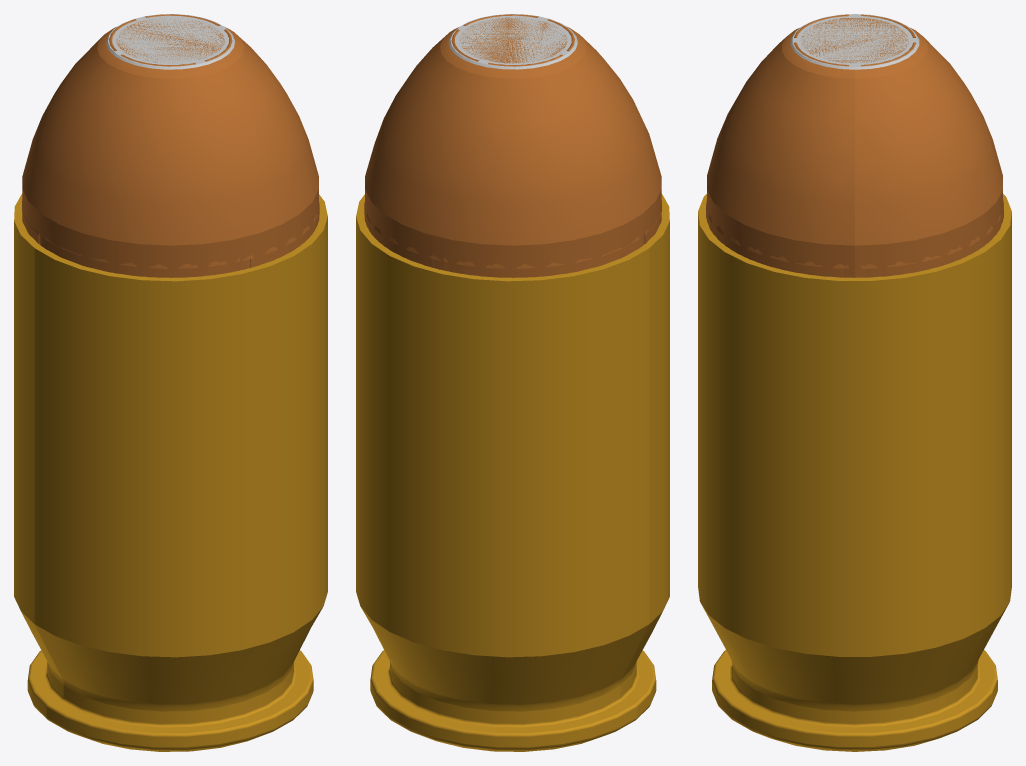
3 views of the same model, side by side, from view 1: azimuth 30°, elevation 25°; view 2: azimuth 150°, elevation 25°; view 3: azimuth 270°, elevation 25° (orthographic).
Visible parts, largest first — view 1: o4_IndexedFaceSet, o12_IndexedFaceSet.002_o12_IndexedFaceSet.003, o12_IndexedFaceSet.001_o12_IndexedFaceSet.002, o17_IndexedFaceSet, o12_IndexedFaceSet_o12_IndexedFaceSet.001; view 2: o4_IndexedFaceSet, o12_IndexedFaceSet.002_o12_IndexedFaceSet.003, o12_IndexedFaceSet.001_o12_IndexedFaceSet.002, o17_IndexedFaceSet, o12_IndexedFaceSet_o12_IndexedFaceSet.001; view 3: o4_IndexedFaceSet, o12_IndexedFaceSet.002_o12_IndexedFaceSet.003, o12_IndexedFaceSet.001_o12_IndexedFaceSet.002, o17_IndexedFaceSet, o12_IndexedFaceSet_o12_IndexedFaceSet.001.
Part boxes in pixels (box(x1,y1,x2,y2)): o4_IndexedFaceSet: box(14, 193, 327, 751); o12_IndexedFaceSet.002_o12_IndexedFaceSet.003: box(22, 18, 318, 277); o12_IndexedFaceSet.001_o12_IndexedFaceSet.002: box(106, 14, 234, 69); o17_IndexedFaceSet: box(22, 14, 319, 277); o12_IndexedFaceSet_o12_IndexedFaceSet.001: box(22, 202, 319, 277); o4_IndexedFaceSet: box(356, 193, 669, 751); o12_IndexedFaceSet.002_o12_IndexedFaceSet.003: box(365, 17, 661, 277); o12_IndexedFaceSet.001_o12_IndexedFaceSet.002: box(448, 14, 577, 69); o17_IndexedFaceSet: box(364, 14, 661, 277); o12_IndexedFaceSet_o12_IndexedFaceSet.001: box(364, 202, 661, 277); o4_IndexedFaceSet: box(698, 194, 1011, 751); o12_IndexedFaceSet.002_o12_IndexedFaceSet.003: box(707, 18, 1002, 277); o12_IndexedFaceSet.001_o12_IndexedFaceSet.002: box(790, 14, 919, 69); o17_IndexedFaceSet: box(706, 14, 1003, 277); o12_IndexedFaceSet_o12_IndexedFaceSet.001: box(706, 206, 1003, 277).
Size of the model in its own units: 13.36 by 31.04 by 13.38.
